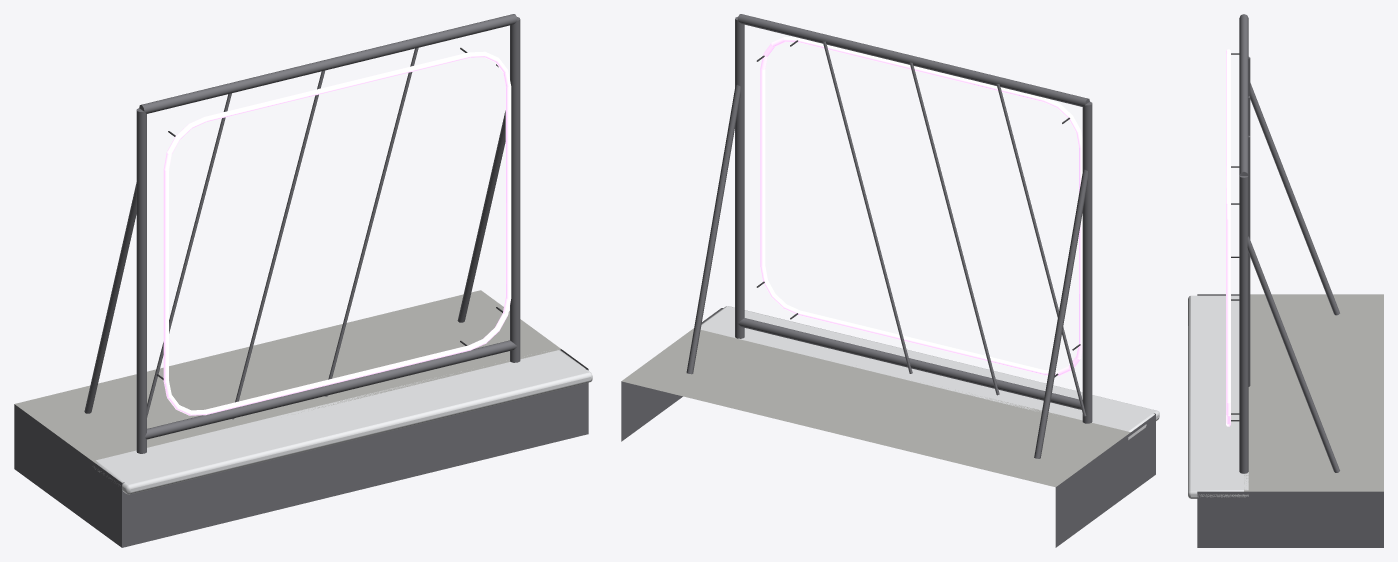
The model's file is retro_cap_neon_3.glb.
3 renders of one model, left to right at view 1: azimuth 30°, elevation 25°; view 2: azimuth 150°, elevation 25°; view 3: azimuth 270°, elevation 25°, orthographic. The views are drawn at different scales.
Visible parts, largest first — view 1: retro_cap_neon_3; view 2: retro_cap_neon_3; view 3: retro_cap_neon_3.
Boxes of the visible parts, x1=… form: retro_cap_neon_3: x1=14, y1=14, x2=592, y2=547; retro_cap_neon_3: x1=621, y1=14, x2=1159, y2=547; retro_cap_neon_3: x1=1188, y1=14, x2=1383, y2=547.
Bounding box in the file's own units: 3 × 2.53 × 1.26.
